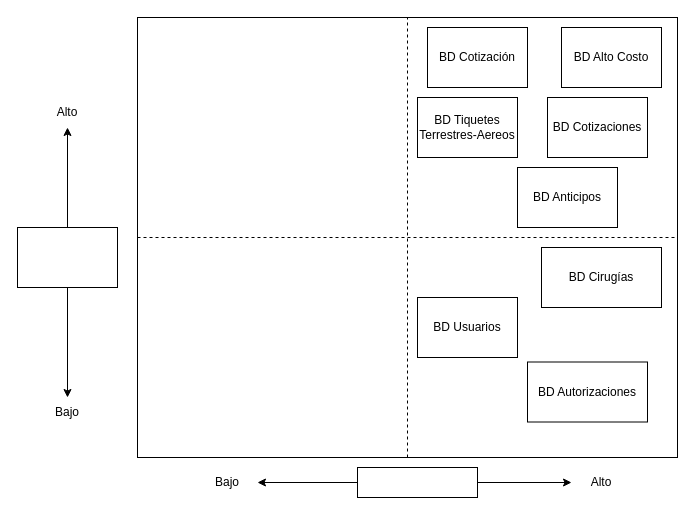
Image size: 696x515. Some labels were removed from this diagram. The shapes that lost their labels are listed below. From the top down, each one's centre as x and y in pixels, then its label:
At pixel 67 257: "Impacto Potencial del Negocio".
At pixel 417 482: "Viabilidad".
